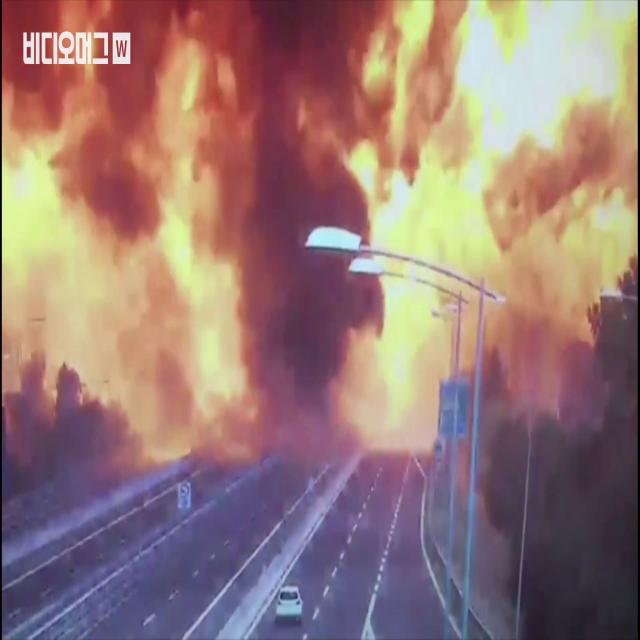explosion: (5, 2, 640, 534)
